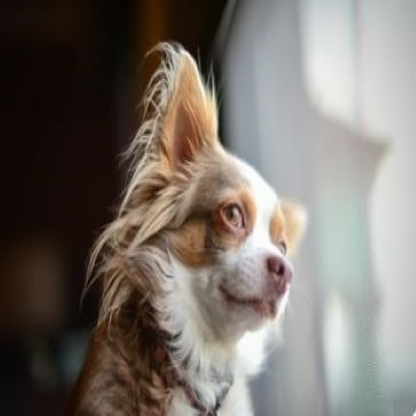chihuahua: (70, 38, 313, 410)
